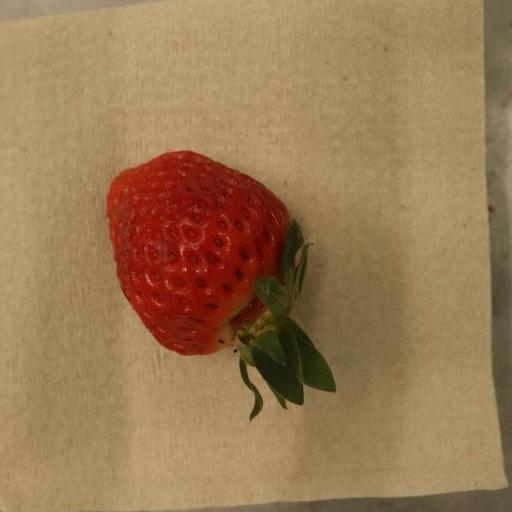Strawberry: (107, 151, 337, 422)
